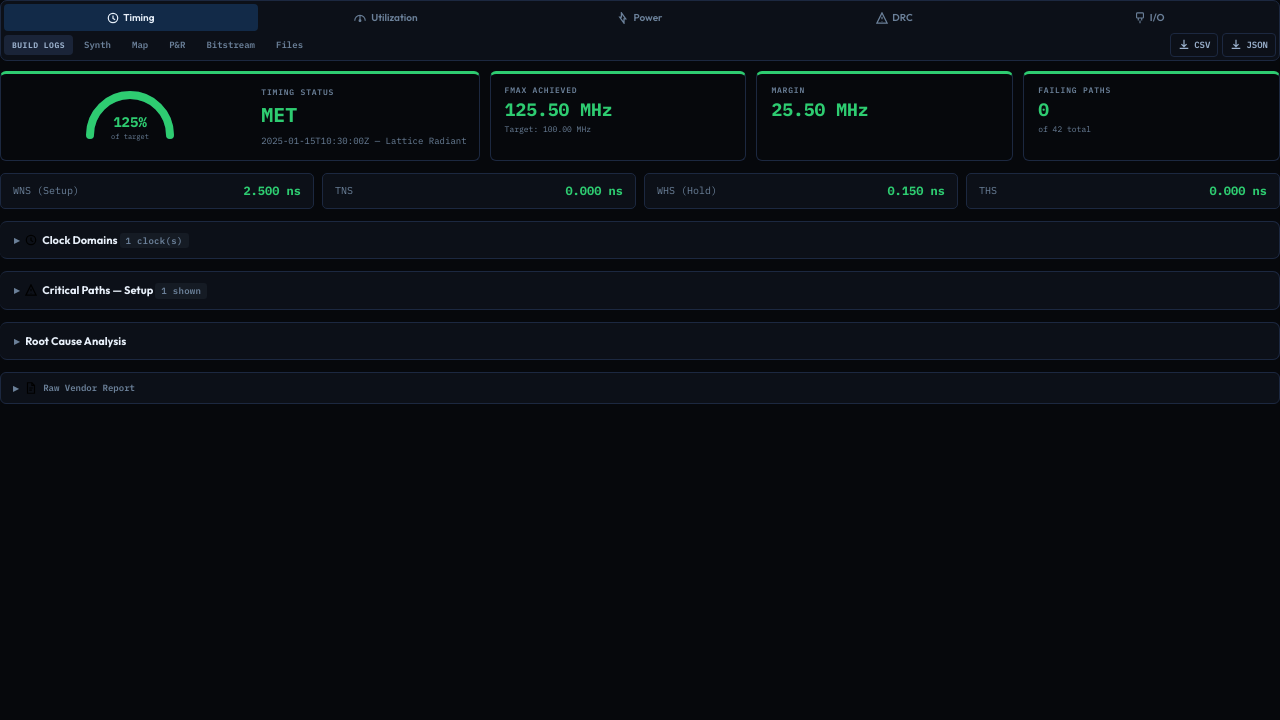
Test: ReportViewer › shows critical paths table with rank, from, to, slack
Expand it
Click the text "Critical Paths — Setup 1 shown": [125, 290] box [42,282,207,298]
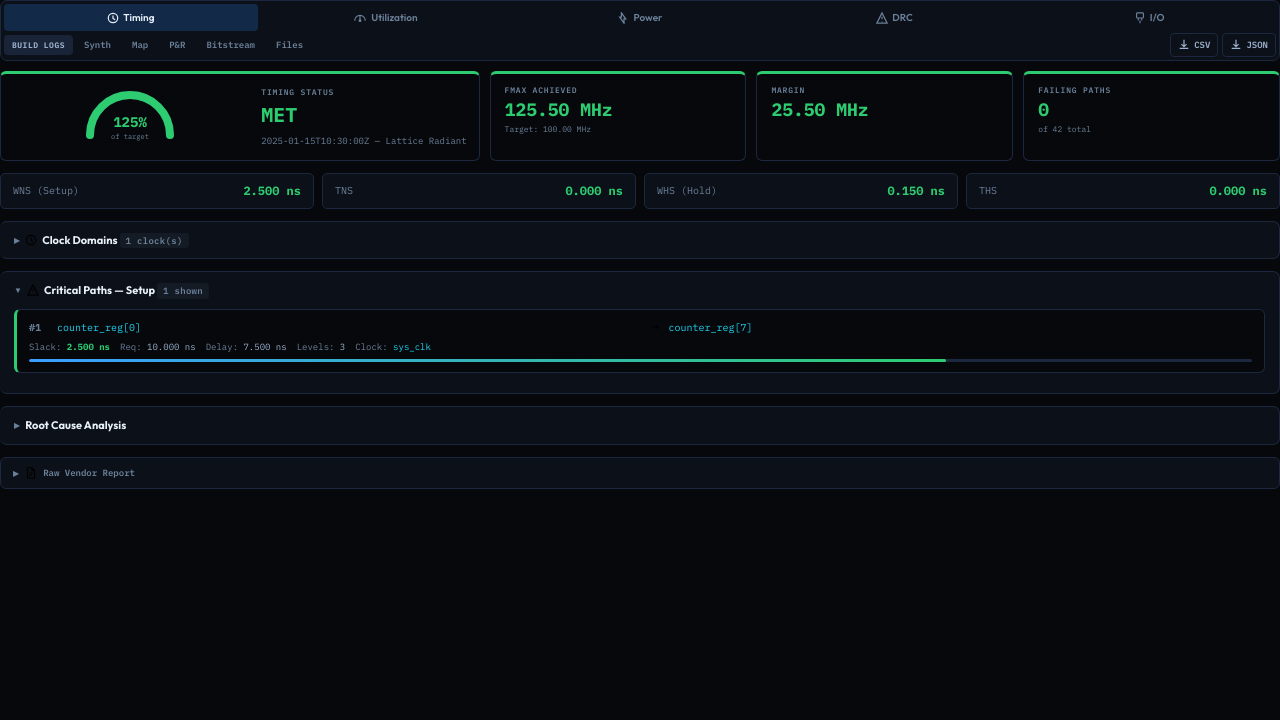
expect the text "#1" is shown: met, box [29,320,41,334]
expect the text "counter_reg[0]" is shown: met, box [57,320,141,334]
expect the text "counter_reg[7]" is shown: met, box [668,320,752,334]
